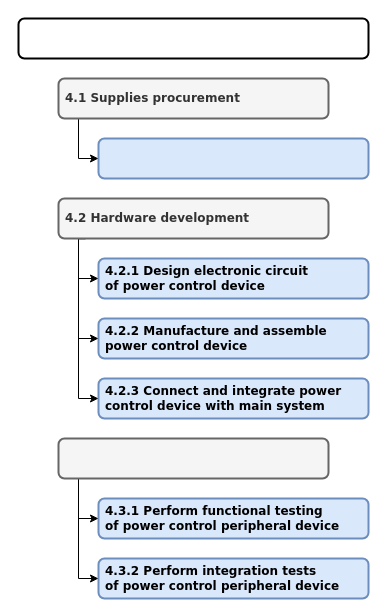
Image size: 386x616. Some labels were removed from this diagram. Each missing label, with the centre of its shape:
4. Development and integration of peripheral device for power control: the point at 193,38
4.1.1 Select and procure components for power control device: the point at 233,158
4.3 Testing: the point at 193,458
